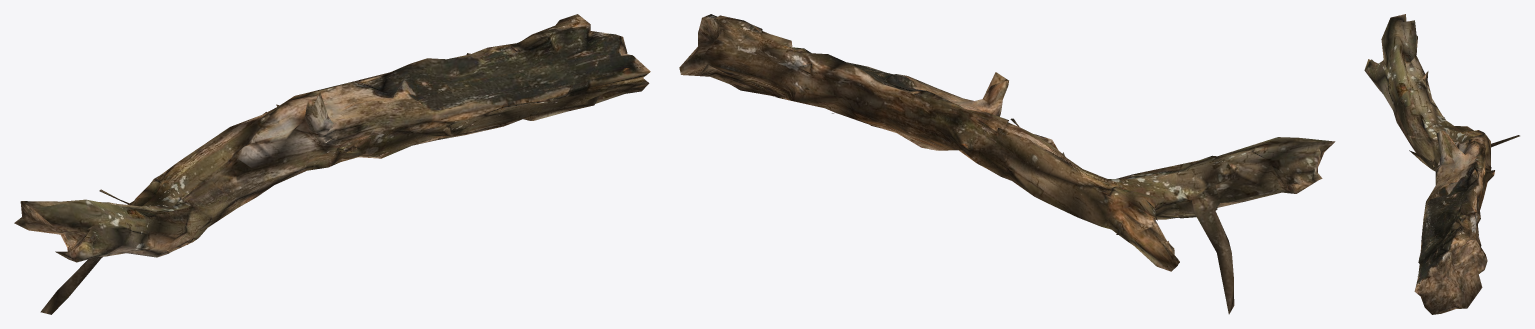
Rendered from dead_tree_trunk_02.glb.
3 renders of one model, left to right at view 1: azimuth 30°, elevation 25°; view 2: azimuth 150°, elevation 25°; view 3: azimuth 270°, elevation 25°, orthographic. The views are drawn at different scales.
Parts seen in each view (by area): view 1: dead_tree_trunk_02; view 2: dead_tree_trunk_02; view 3: dead_tree_trunk_02.
Boxes of the visible parts, box(x1,y1,x2,y2) form: dead_tree_trunk_02: box(14, 14, 650, 314); dead_tree_trunk_02: box(679, 14, 1335, 314); dead_tree_trunk_02: box(1364, 14, 1519, 314).
Size of the model in its own units: 4.05 by 1.04 by 1.05.
1 material, 1 textured.
